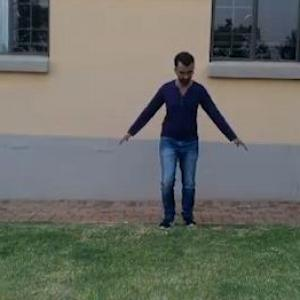land: (112, 47, 252, 231)
